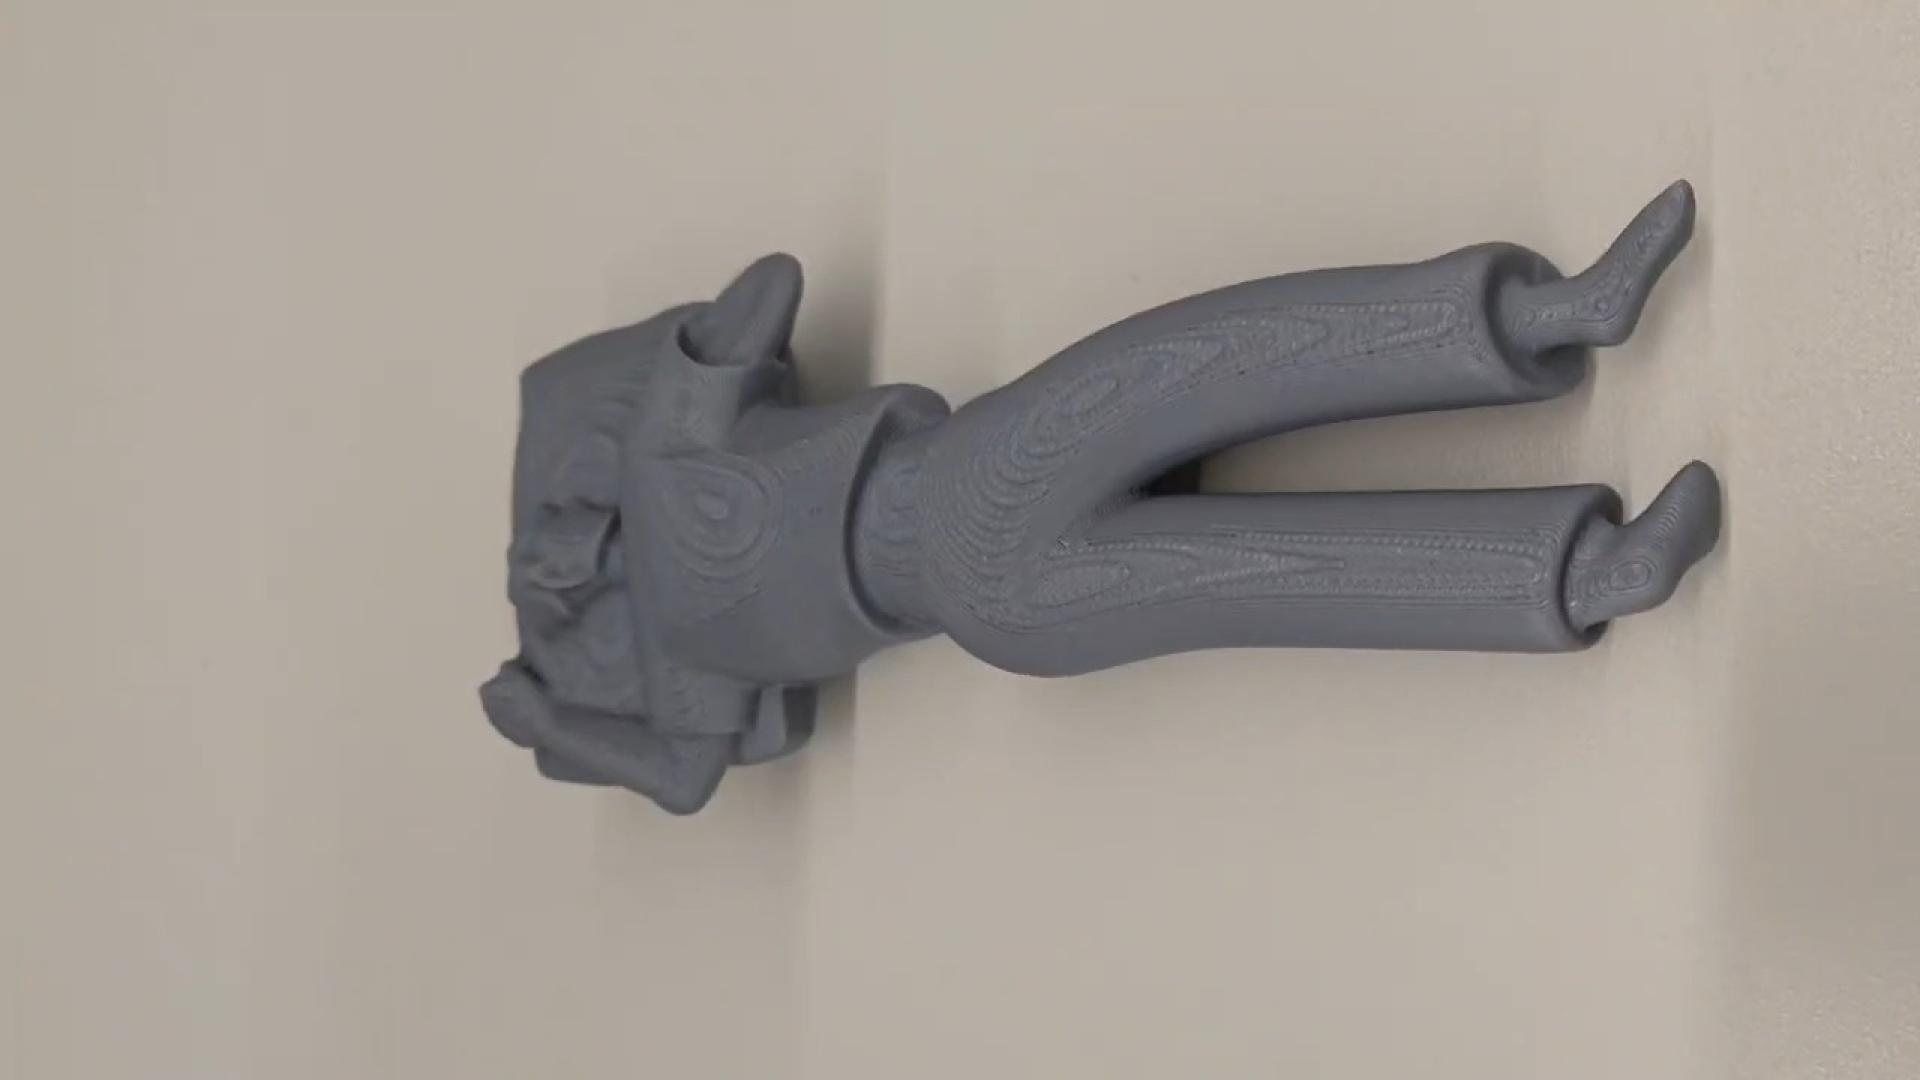Bad-style: (471, 165, 1727, 825)
